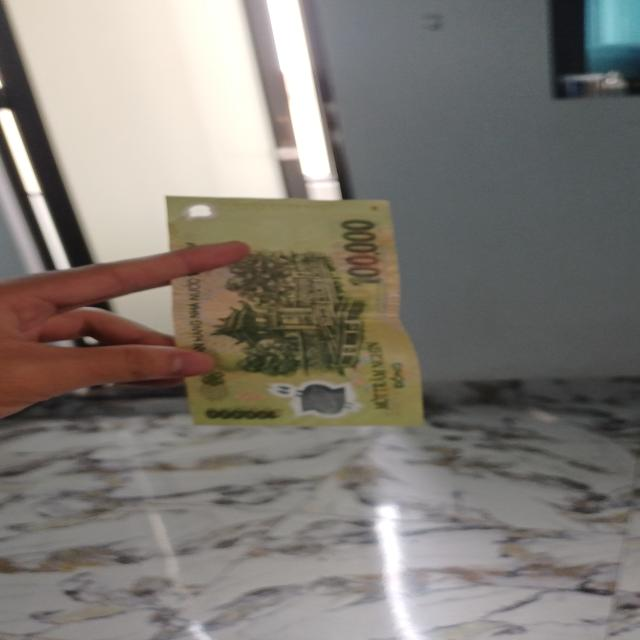100 000 VND: (158, 193, 434, 431)
